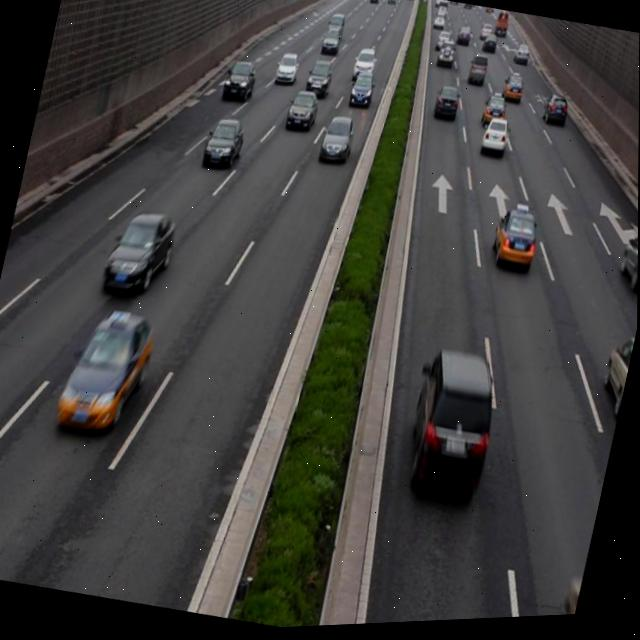car: (399, 353, 505, 509), (58, 304, 157, 438), (99, 204, 178, 307), (487, 207, 540, 278), (594, 334, 636, 423), (202, 116, 245, 168), (546, 566, 586, 621), (221, 57, 257, 106), (318, 114, 353, 163), (614, 233, 639, 297), (285, 91, 319, 135), (302, 59, 335, 102), (272, 53, 301, 92), (480, 118, 509, 154), (480, 92, 507, 130), (348, 72, 375, 110), (432, 88, 460, 123), (541, 98, 568, 131)
